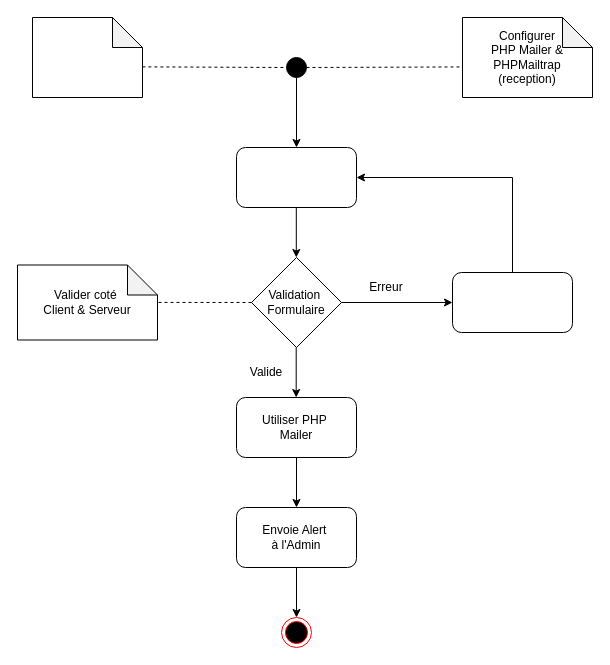
The diagram is 610 pixels wide and 665 high, and some of its shapes have lost their labels. Here are the shapes that lost their labels. From the top down, the box of each, then its label:
(32, 16, 142, 98): Page Contact
(236, 146, 356, 208): Entrer Email utilisateur & msg
(452, 272, 572, 332): Affiche msg Erreur
